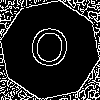O: (25, 25, 72, 78)
